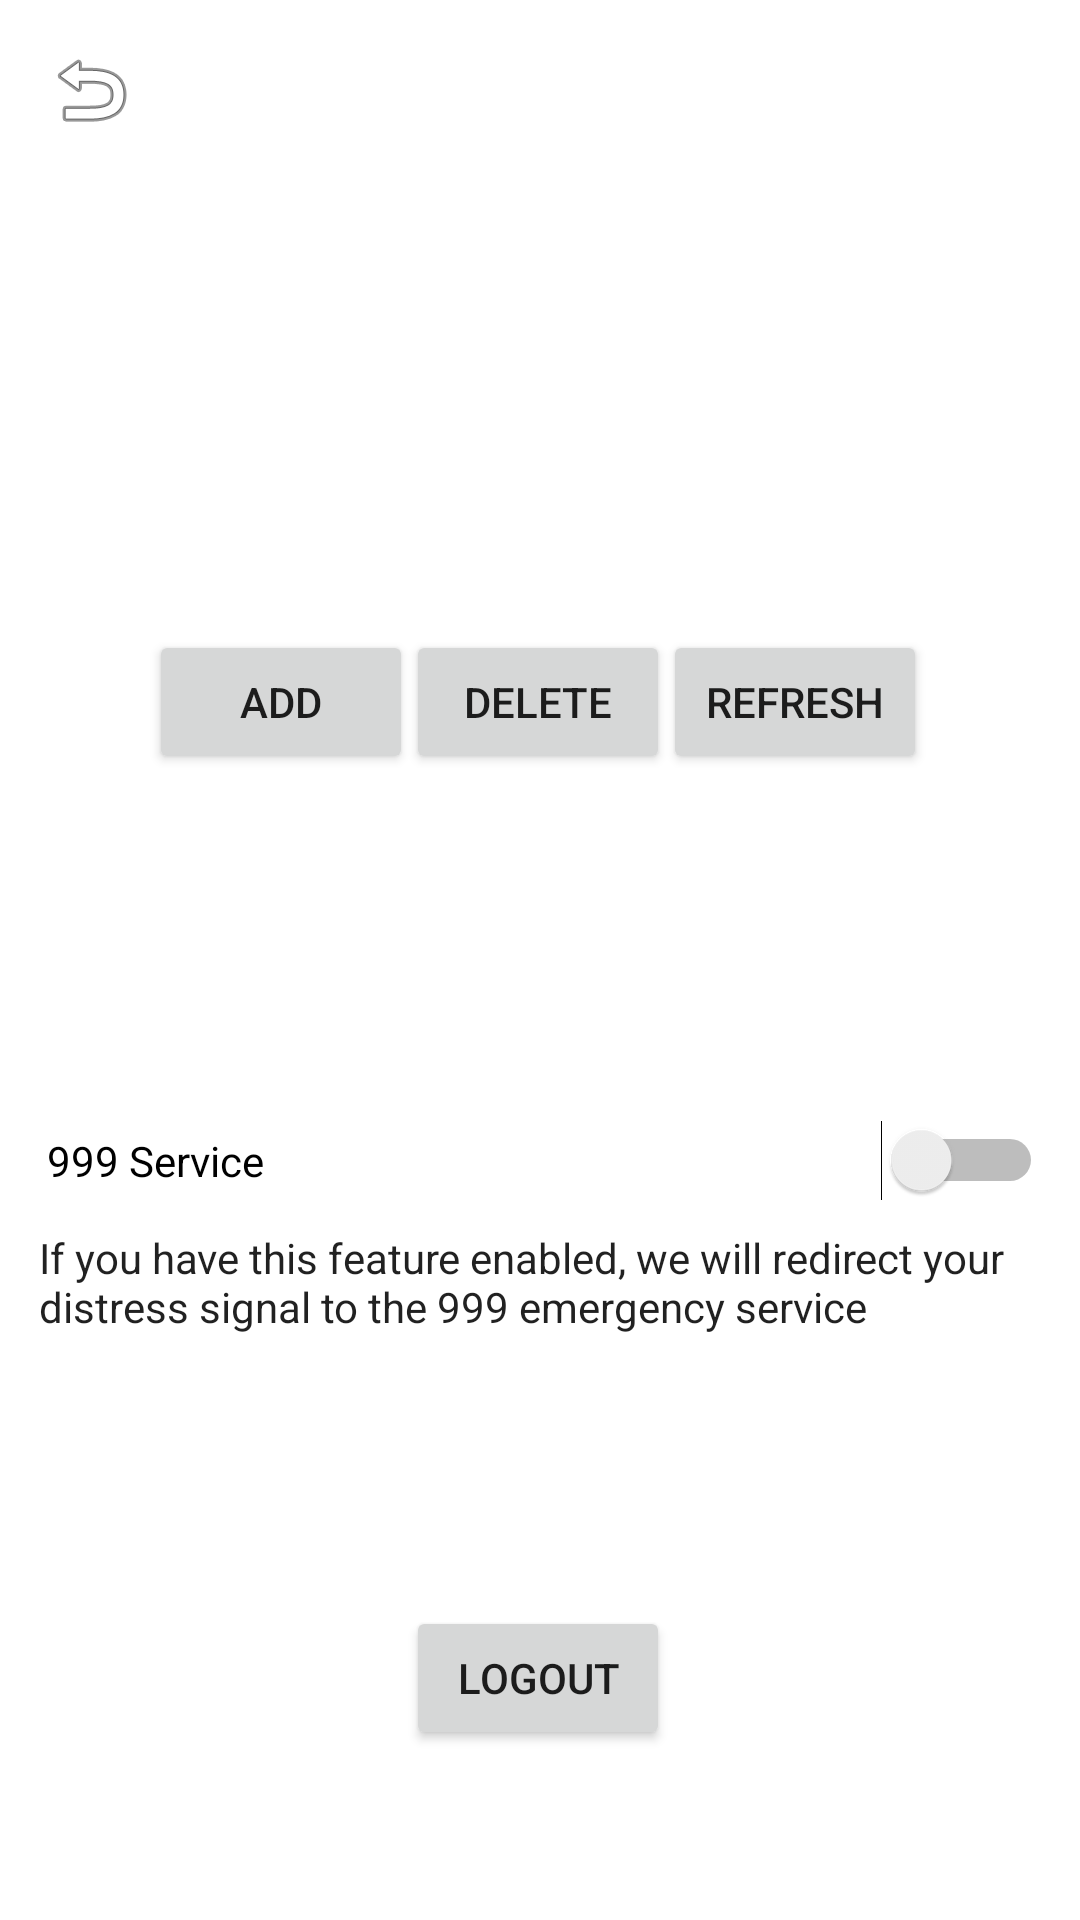

Icon bounding boxes for this 1080*1920 phone screenshot, format {"left": x1, "top": y1, "right": x2, "bottom": y2}:
revert: {"left": 58, "top": 59, "right": 127, "bottom": 122}
